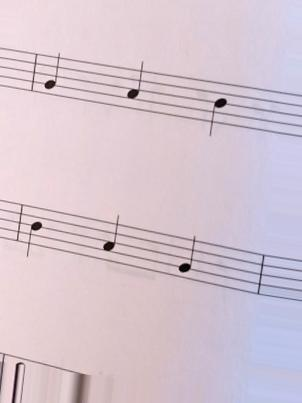A: (98, 211, 124, 271), (123, 56, 146, 119)
B: (204, 73, 231, 143), (19, 199, 47, 260)
G: (176, 230, 199, 289), (40, 45, 62, 103)
